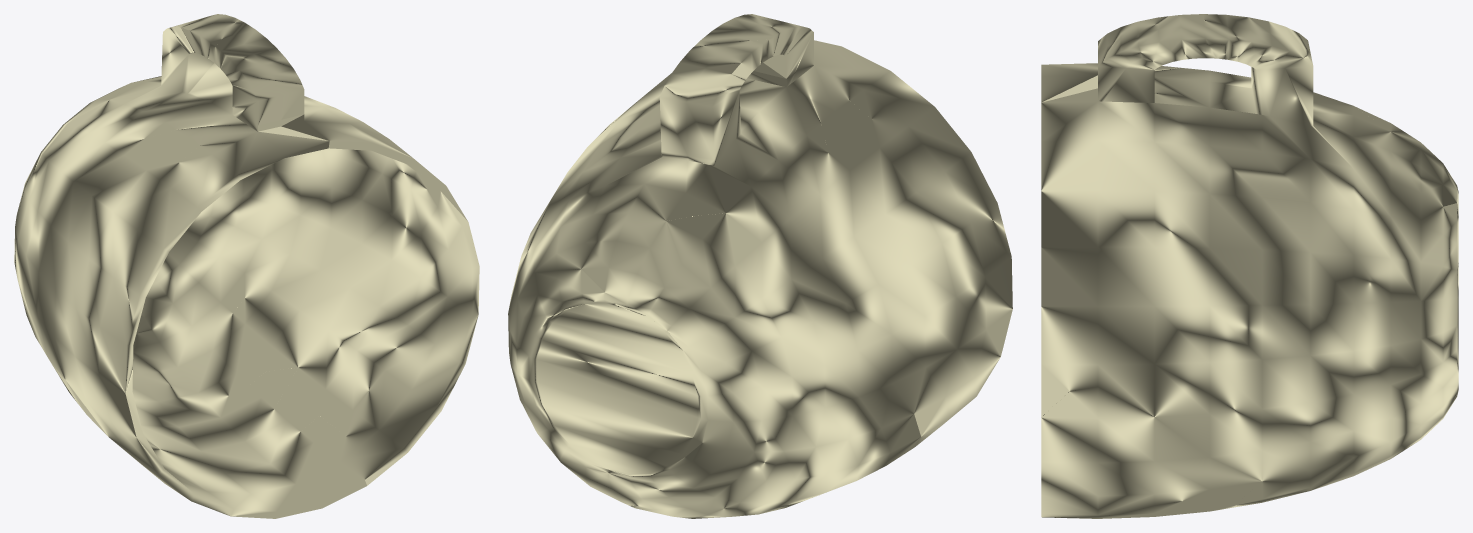
File: model_align.obj
3 renders of one model, left to right at view 1: azimuth 30°, elevation 25°; view 2: azimuth 150°, elevation 25°; view 3: azimuth 270°, elevation 25°, orthographic. The views are drawn at different scales.
Bounding box in the file's own units: 0.0961 × 0.1093 × 0.0875.
